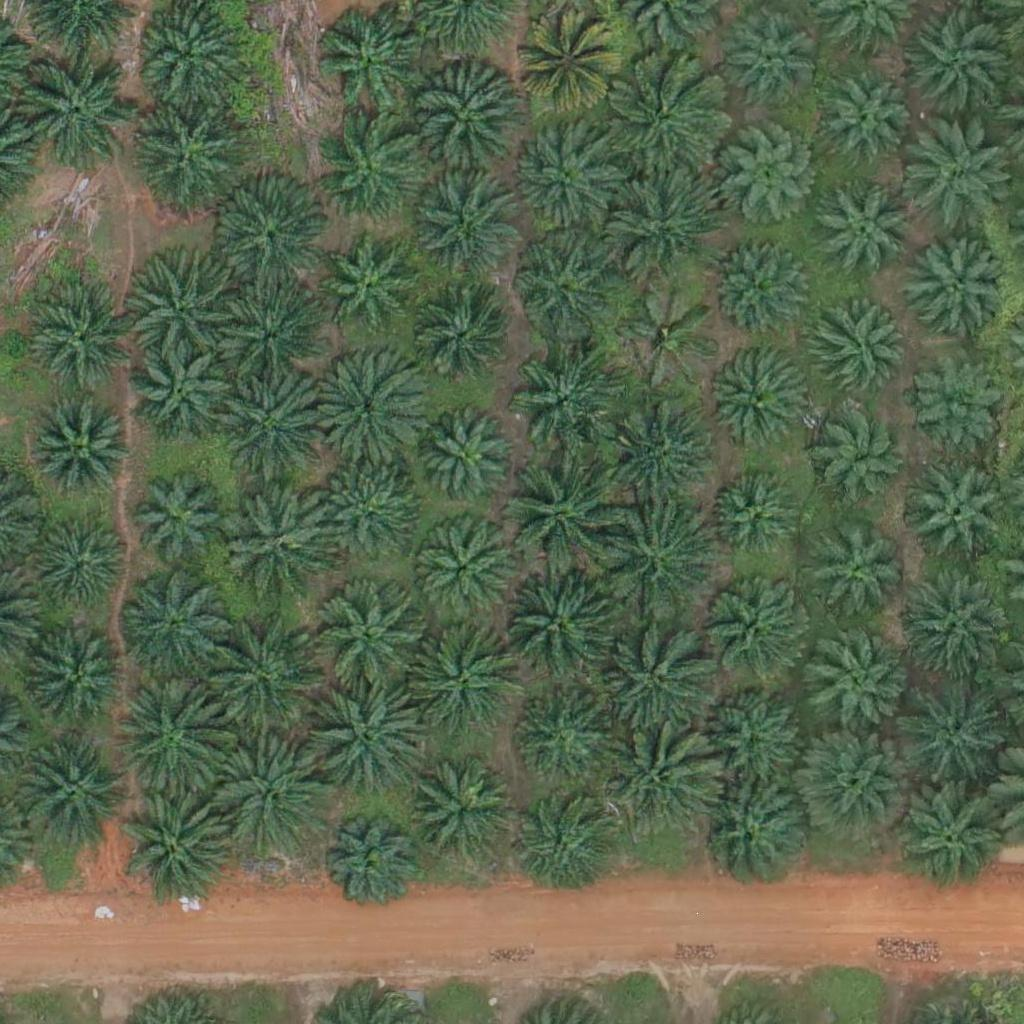Kelapa_Sawit: (503, 566, 616, 680), (310, 350, 423, 464), (219, 366, 332, 480), (213, 743, 326, 857), (110, 683, 223, 797), (13, 736, 126, 850), (902, 6, 1015, 119), (896, 575, 1009, 688), (896, 676, 1009, 789), (892, 783, 1005, 896), (597, 620, 710, 733), (600, 391, 713, 504), (604, 171, 717, 284), (608, 59, 721, 172), (502, 460, 615, 573), (411, 66, 524, 179), (405, 624, 518, 737), (313, 8, 426, 121), (315, 585, 428, 698), (224, 484, 337, 597), (901, 123, 1013, 237), (600, 505, 712, 619), (316, 113, 428, 227), (117, 567, 229, 681), (801, 731, 913, 844), (695, 777, 807, 890), (600, 725, 712, 838), (508, 339, 620, 452), (407, 761, 519, 874), (317, 682, 429, 795), (217, 188, 329, 301), (206, 617, 318, 730), (122, 794, 234, 907), (128, 96, 240, 209), (128, 244, 240, 357), (16, 53, 128, 166), (908, 239, 1008, 340), (912, 468, 1012, 569), (813, 181, 913, 282), (805, 301, 905, 402), (810, 401, 910, 502), (806, 633, 906, 734), (711, 236, 811, 337), (708, 352, 808, 453), (707, 578, 807, 679), (509, 125, 609, 226), (511, 237, 611, 338), (515, 690, 615, 791), (512, 799, 612, 900), (417, 182, 517, 283), (412, 522, 512, 623), (318, 237, 418, 338), (129, 472, 229, 573), (130, 342, 230, 443), (904, 351, 1004, 451), (714, 131, 814, 231), (708, 680, 808, 780), (620, 287, 720, 387), (515, 19, 615, 119), (409, 296, 509, 396), (320, 469, 420, 569), (220, 285, 320, 385), (31, 293, 131, 393), (32, 402, 132, 502), (32, 518, 132, 618), (28, 634, 128, 734), (422, 416, 510, 505), (710, 477, 798, 565), (825, 76, 912, 164), (814, 529, 901, 617), (727, 21, 814, 109), (325, 823, 412, 911)
